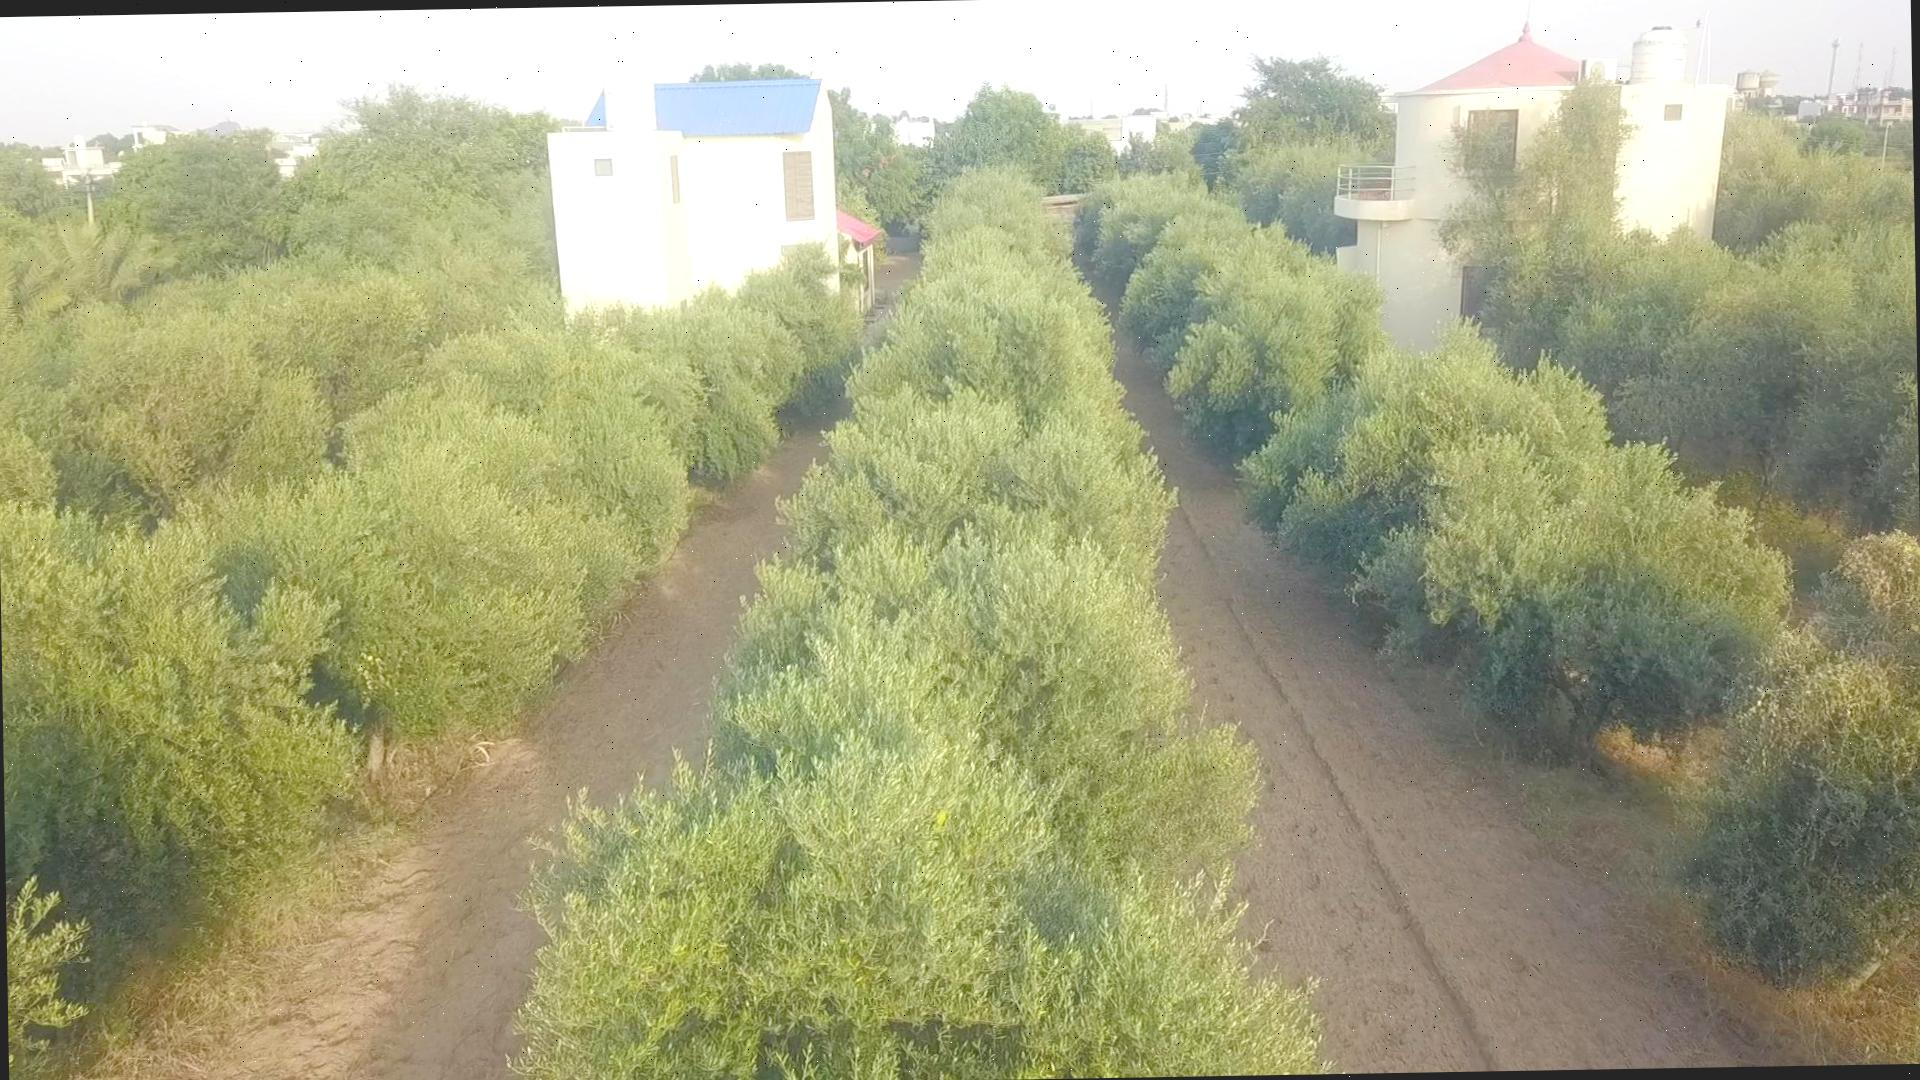canopy: (518, 169, 1325, 1080), (0, 253, 861, 1026), (1088, 175, 1920, 969)
road: (104, 425, 825, 1080), (1117, 349, 1764, 1072)
